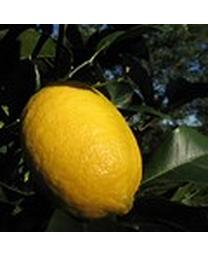lemon: (20, 81, 142, 220)
